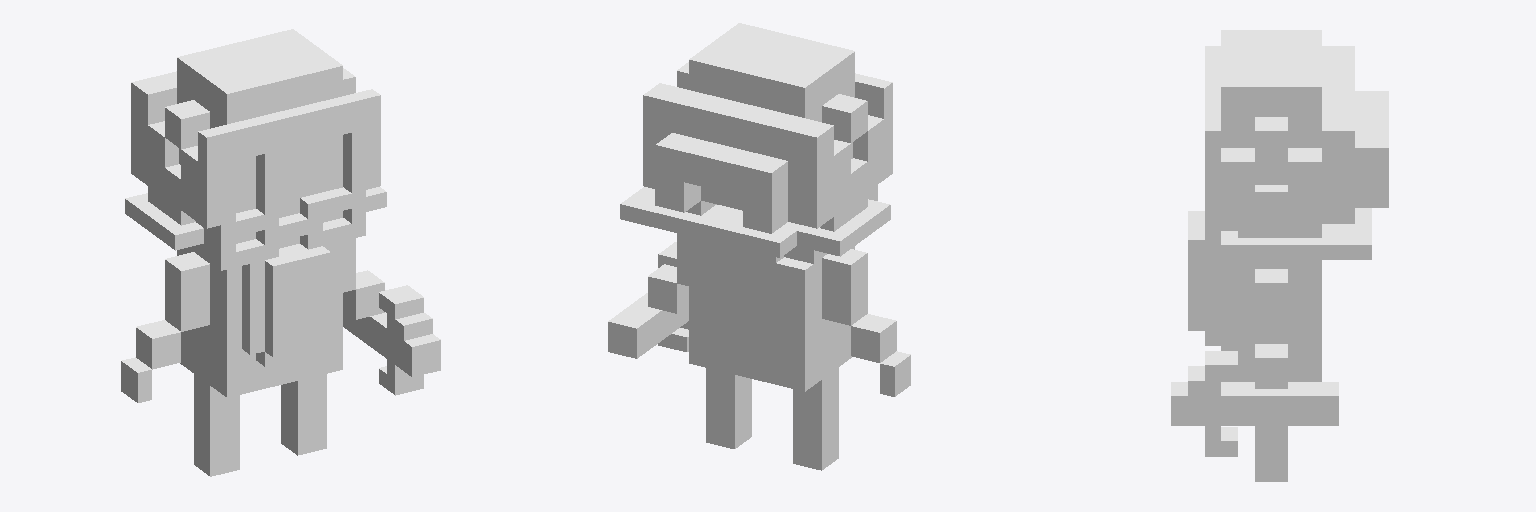
The model's file is DwarfMiner.obj.
3 renders of one model, left to right at view 1: azimuth 30°, elevation 25°; view 2: azimuth 150°, elevation 25°; view 3: azimuth 270°, elevation 25°, orthographic.
Size of the model in its own units: 18 by 26 by 13.